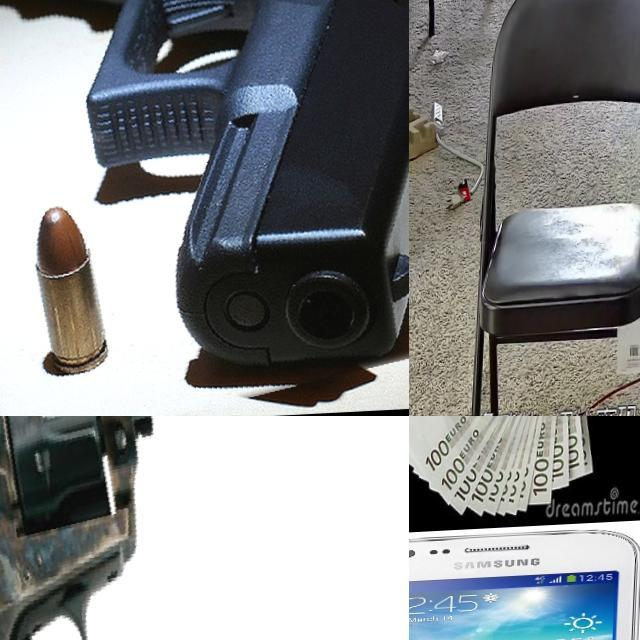gun-knife-thesis - v11 Yolov5 augmented: (0, 0, 409, 416), (0, 416, 409, 640)
